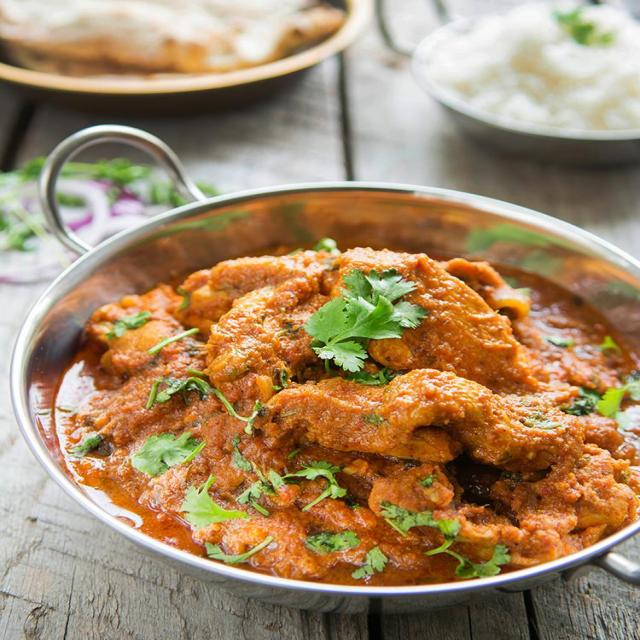chicken: (94, 230, 616, 596)
